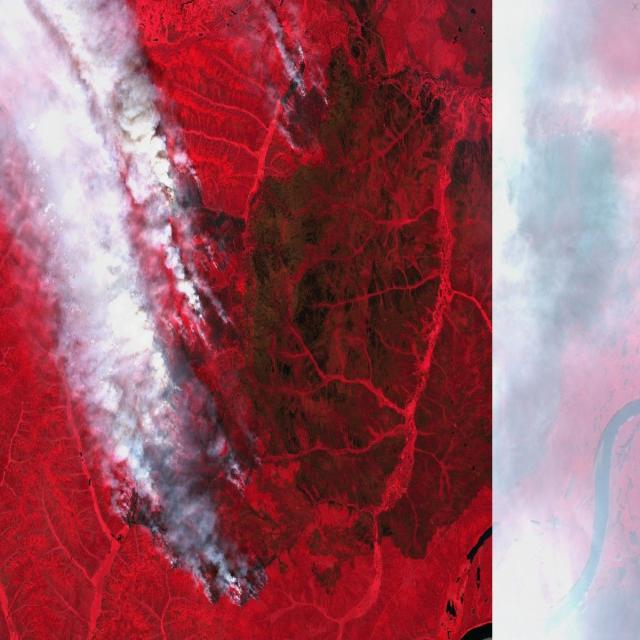fire: (114, 158, 277, 612), (279, 48, 330, 156)
